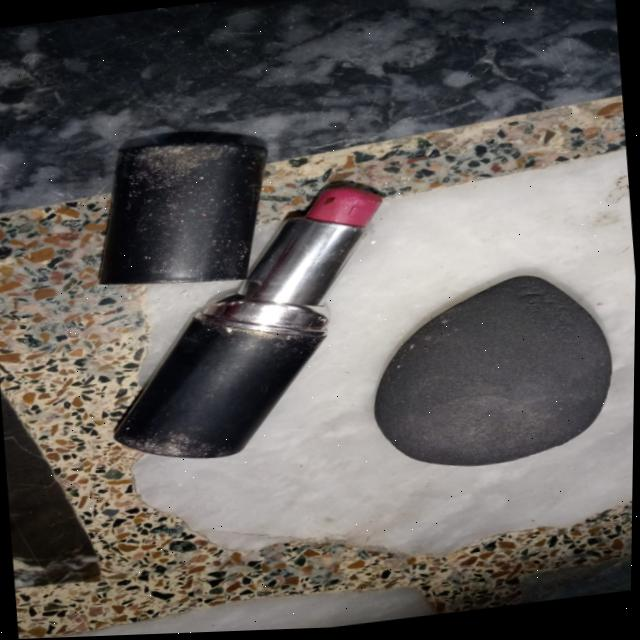lip stick: (67, 155, 458, 500)
